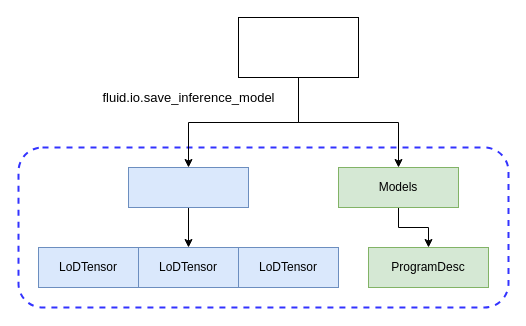
Some shapes in this 526 by 326 pixel diagram are drawn without their labels. The shapes that lost their labels are listed below. From the top down, each one's box as (x1, y1, x2, y2) in pixels, then its label:
(238, 16, 358, 78): 静态图
(128, 166, 248, 208): Persistables
